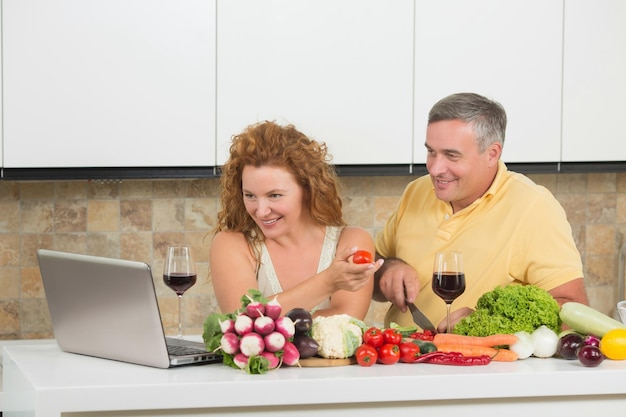alcohol: (161, 245, 197, 339), (430, 250, 466, 333)
knife: (407, 301, 439, 334)
